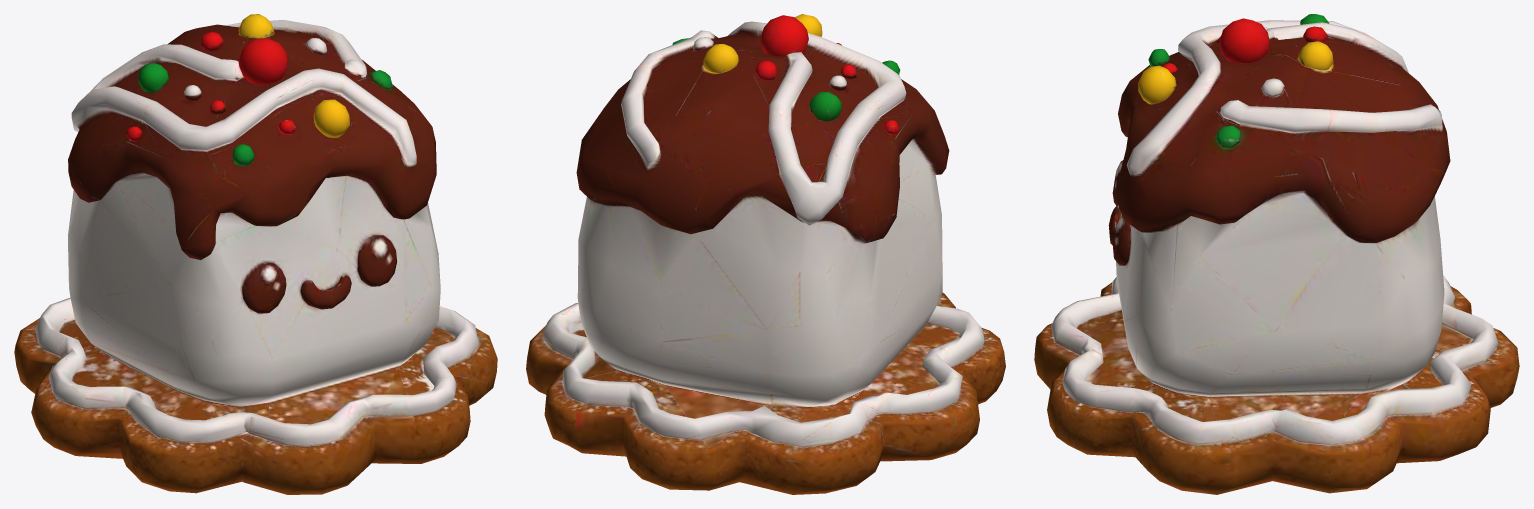
Rendered from marshmallow.glb.
3 renders of one model, left to right at view 1: azimuth 30°, elevation 25°; view 2: azimuth 150°, elevation 25°; view 3: azimuth 270°, elevation 25°, orthographic.
Bounding box in the file's own units: 0.9527 × 0.8276 × 0.9556.
1 material, 1 textured.
